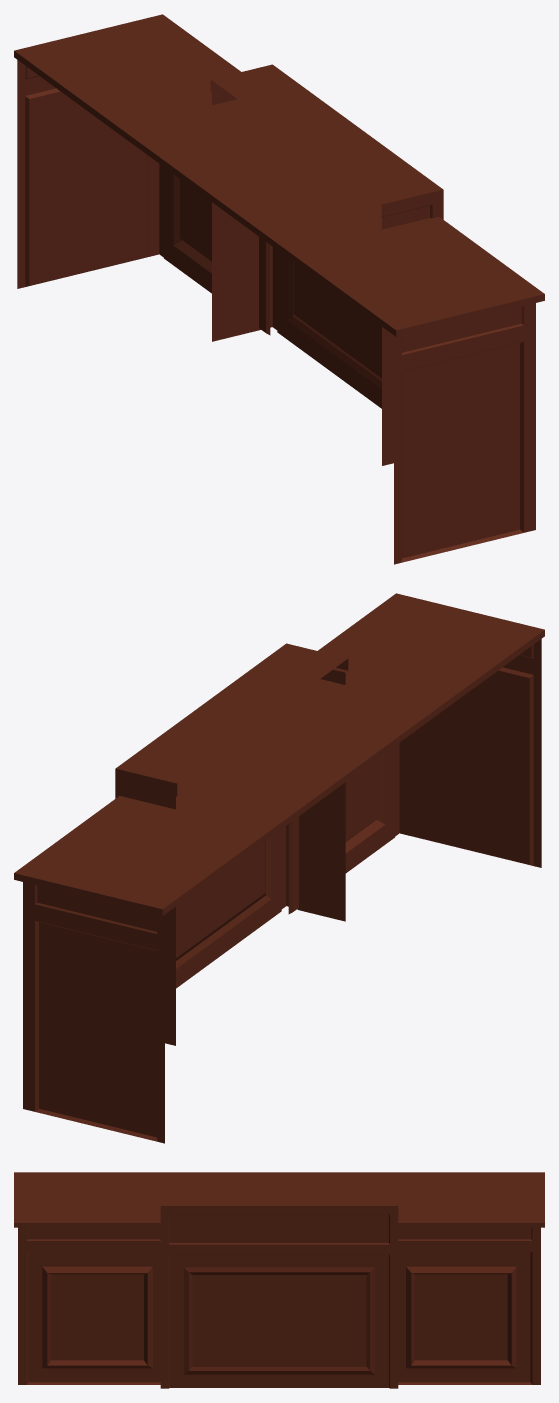
The model's file is Table_3.fbx.
3 views of the same model, one above another, from view 1: azimuth 30°, elevation 25°; view 2: azimuth 150°, elevation 25°; view 3: azimuth 270°, elevation 25° (orthographic). The views are drawn at different scales.
Parts seen in each view (by area): view 1: Judge_table; view 2: Judge_table; view 3: Judge_table.
Part boxes in pixels (x1,y1,x2,y2): Judge_table: (14,14,544,564); Judge_table: (14,593,544,1143); Judge_table: (14,1172,544,1388).
Size of the model in its own units: 82.38 by 135 by 356.
